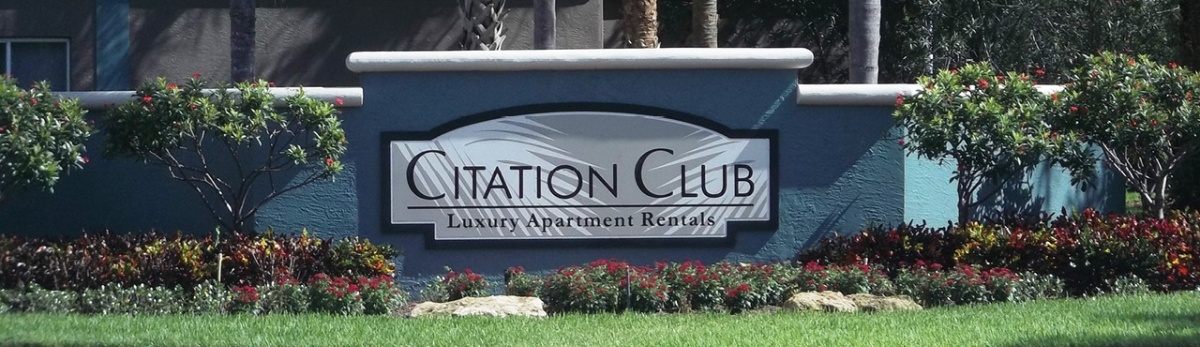text: (641, 144, 656, 200), (657, 144, 672, 200), (673, 144, 688, 200), (689, 144, 704, 200), (705, 144, 720, 200), (721, 144, 736, 200), (737, 144, 752, 200), (417, 148, 432, 201), (433, 148, 448, 201), (449, 148, 464, 201), (465, 148, 480, 201), (481, 148, 496, 201), (497, 148, 512, 201), (513, 148, 528, 201), (529, 148, 544, 201), (545, 148, 560, 201), (561, 148, 576, 201), (577, 148, 592, 201), (593, 148, 608, 201), (609, 148, 620, 201), (407, 148, 416, 201), (634, 144, 640, 200), (449, 212, 464, 234), (465, 212, 480, 234), (481, 212, 496, 234), (497, 212, 512, 234), (529, 212, 544, 234), (545, 212, 560, 234), (561, 212, 576, 234), (577, 212, 592, 234), (593, 212, 608, 234), (609, 212, 624, 234), (625, 212, 639, 234), (657, 211, 672, 227), (673, 211, 688, 227), (689, 211, 704, 227), (642, 211, 656, 227), (705, 211, 718, 227), (513, 212, 521, 234), (525, 212, 528, 234), (753, 144, 754, 200), (447, 212, 448, 234)
